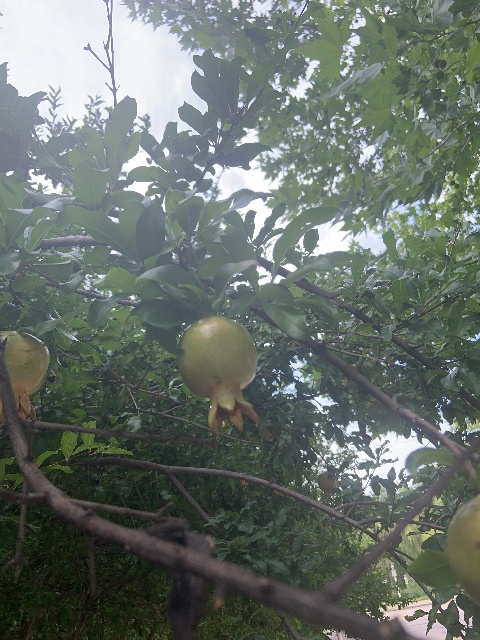mid-growth: (177, 316, 260, 436), (0, 330, 49, 420), (317, 471, 337, 500)
